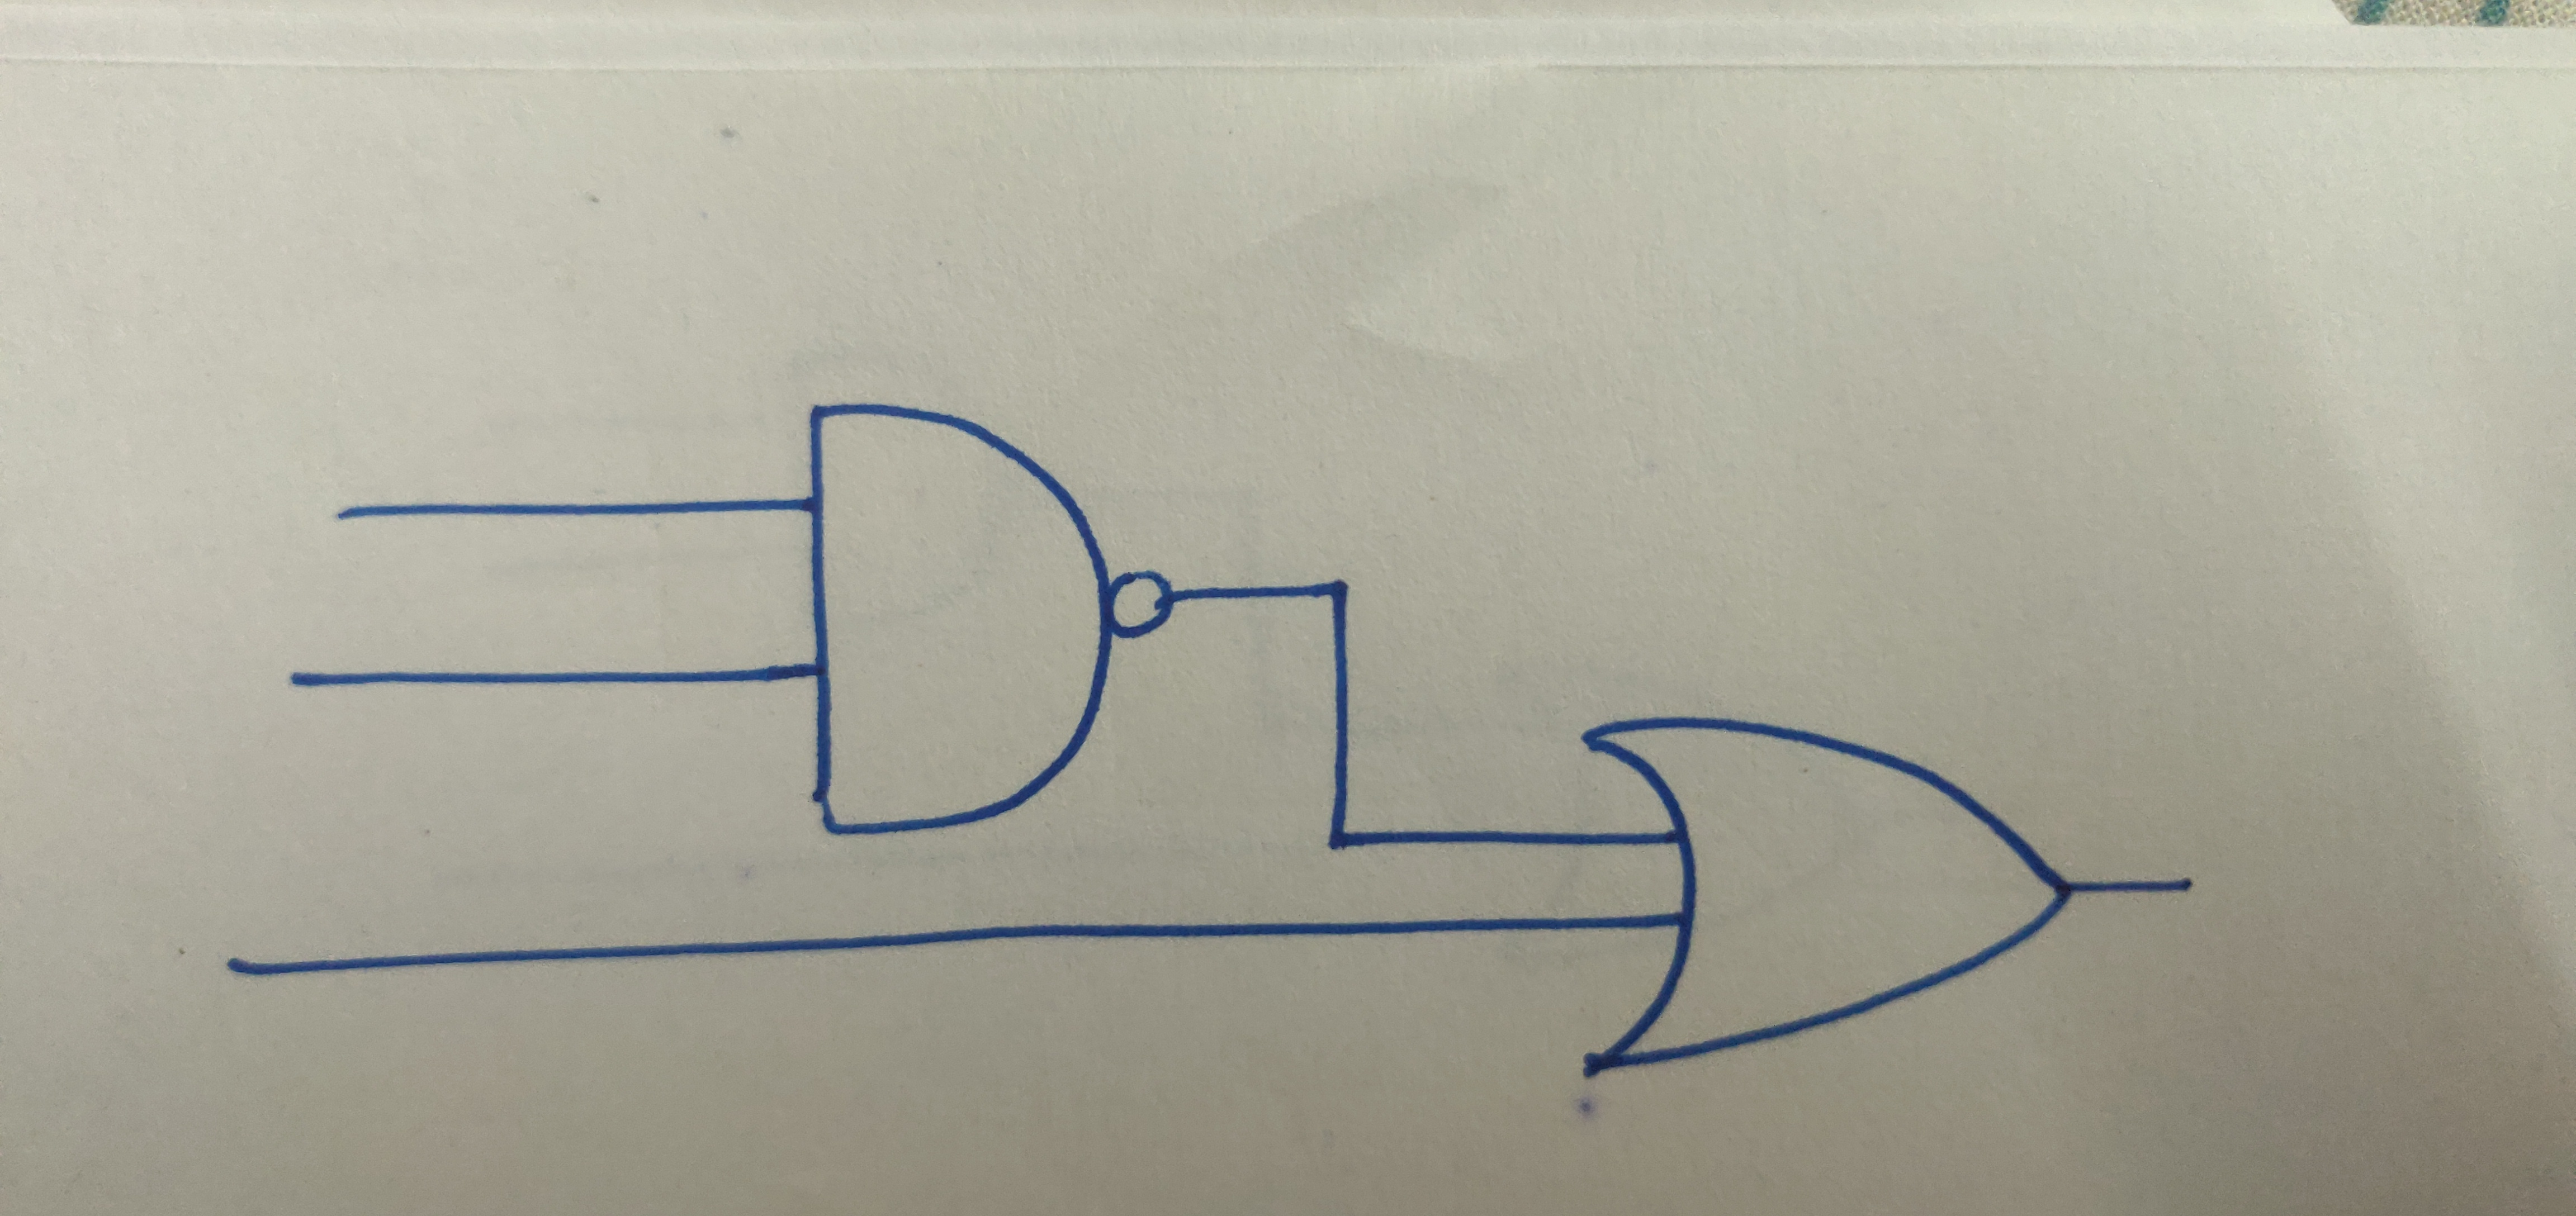and: (802, 404, 1117, 838)
not: (1107, 562, 1176, 651)
or: (1577, 713, 2073, 1085)
